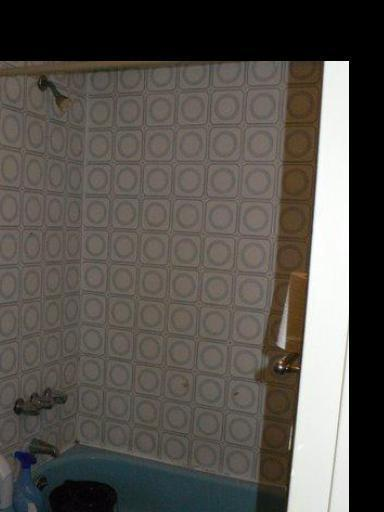Ducha: (0, 61, 108, 487)
